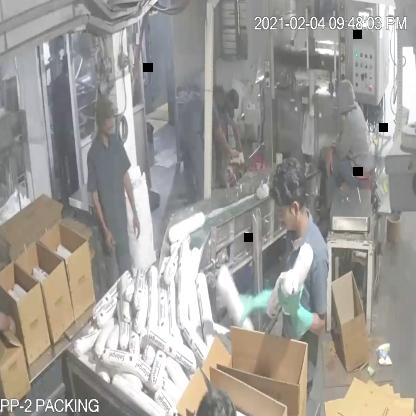glove: (270, 266, 320, 342), (231, 282, 276, 323)
no_glove: (83, 183, 118, 258), (118, 158, 146, 248), (208, 110, 241, 161), (226, 111, 247, 155), (322, 144, 339, 178)
